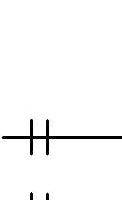115_buffer: (30, 119, 49, 156)
